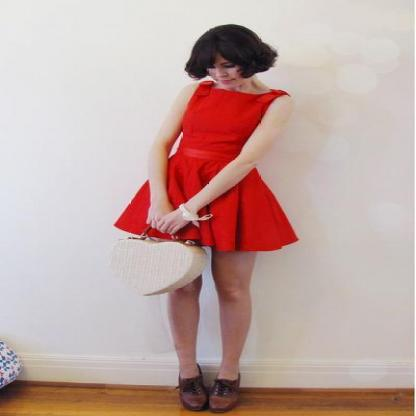dress: (115, 75, 298, 253)
shoe: (174, 374, 250, 416)
